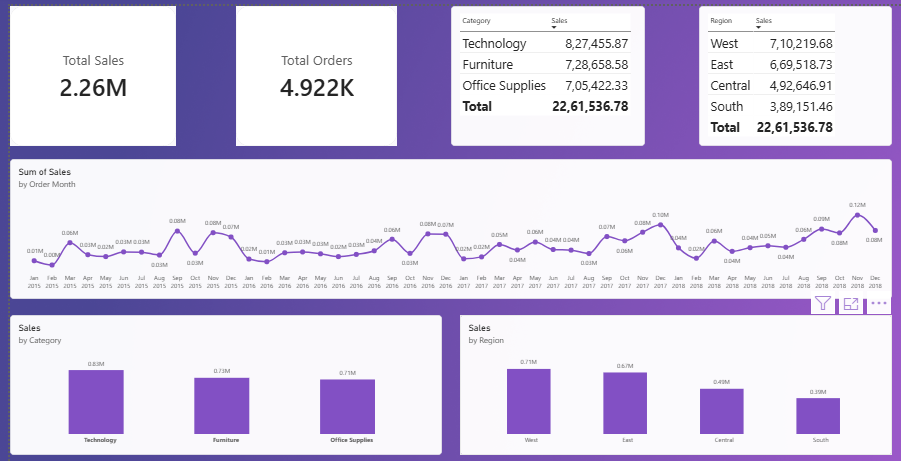

This screenshot's page, from the dashboard's own definition file:
{"tool":"powerbi","page":{"name":"Page 1","canvas":[1920,1080],"ordinal":0},"visuals":[{"type":"cardVisual","fields":{"Data":["Sum(sales_clean.Sales)"]},"box":[0,0,332,280],"z":0},{"type":"cardVisual","fields":{"Data":["Count(sales_clean.Order ID)"]},"box":[452,0,322,280],"z":1000},{"type":"tableEx","fields":{"Values":["sales_clean.Category","Sum(sales_clean.Sales)"]},"box":[882,0,388,280],"z":2000},{"type":"tableEx","fields":{"Values":["sales_clean.Region","Sum(sales_clean.Sales)"]},"box":[1378,0,386,280],"z":3000},{"type":"lineChart","fields":{"Y":["Sum(sales_clean.Sales)"],"Category":["sales_clean.Order Month"]},"box":[0,306,1764,280],"z":4000},{"type":"clusteredColumnChart","fields":{"Category":["sales_clean.Category"],"Y":["Sum(sales_clean.Sales)"]},"box":[0,618,864,280],"z":5000},{"type":"clusteredColumnChart","fields":{"Y":["Sum(sales_clean.Sales)"],"Category":["sales_clean.Region"]},"box":[900,618,864,280],"z":6000}]}

Visuals, with their boxes on the page's 1920x1080 design canvas (x1, y1, x2, y2). These are canvas units, not pixel positions in the 901x461 screenshot, which may show the page scaled, cropped or inside an application window:
cardVisual - Sum(sales_clean.Sales): box=[0, 0, 332, 280]
cardVisual - Count(sales_clean.Order ID): box=[452, 0, 774, 280]
tableEx - sales_clean.Category x Sum(sales_clean.Sales): box=[882, 0, 1270, 280]
tableEx - sales_clean.Region x Sum(sales_clean.Sales): box=[1378, 0, 1764, 280]
lineChart - Sum(sales_clean.Sales) x sales_clean.Order Month: box=[0, 306, 1764, 586]
clusteredColumnChart - sales_clean.Category x Sum(sales_clean.Sales): box=[0, 618, 864, 898]
clusteredColumnChart - Sum(sales_clean.Sales) x sales_clean.Region: box=[900, 618, 1764, 898]
